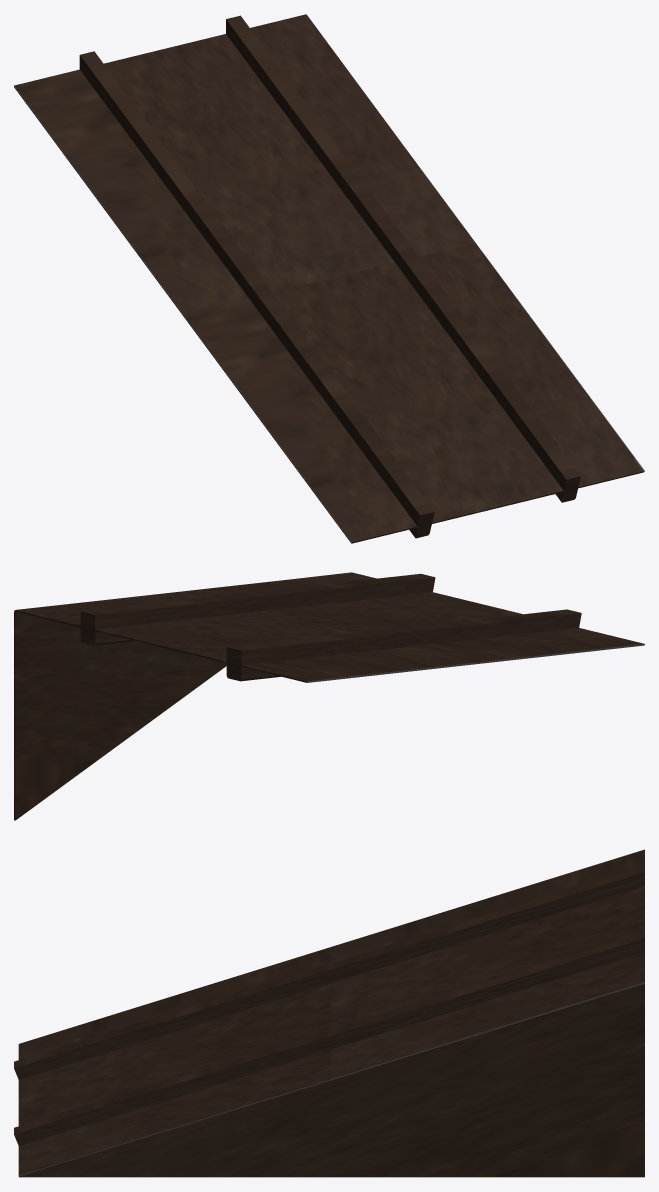
The model's file is OutdoorArchitecture_Ceiling_EndPiece01_BShortt.fbx.
3 views of the same model, one above another, from view 1: azimuth 30°, elevation 25°; view 2: azimuth 150°, elevation 25°; view 3: azimuth 270°, elevation 25° (orthographic). The views are drawn at different scales.
Parts seen in each view (by area): view 1: OutdoorArchitecture_Ceiling_EndPiece01_BShortt; view 2: OutdoorArchitecture_Ceiling_EndPiece01_BShortt; view 3: OutdoorArchitecture_Ceiling_EndPiece01_BShortt.
Part boxes in pixels (left/top/right/bottom): OutdoorArchitecture_Ceiling_EndPiece01_BShortt: left=14, top=14, right=644, bottom=543; OutdoorArchitecture_Ceiling_EndPiece01_BShortt: left=14, top=572, right=644, bottom=820; OutdoorArchitecture_Ceiling_EndPiece01_BShortt: left=14, top=849, right=644, bottom=1177.
Size of the model in its own units: 301 by 234 by 605.
